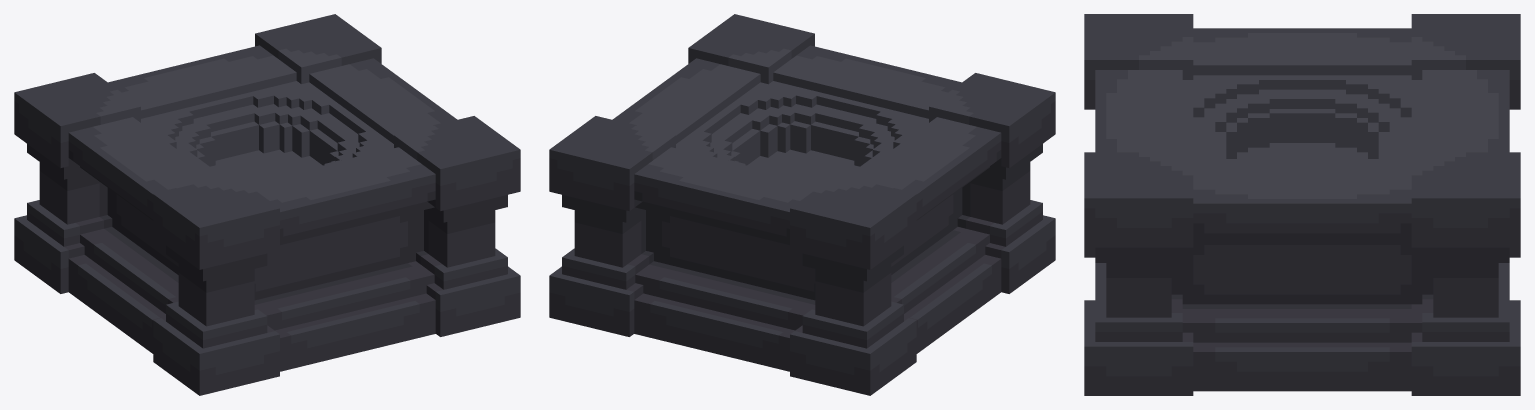
Rendered from RespawnPedestal.obj.
3 renders of one model, left to right at view 1: azimuth 30°, elevation 25°; view 2: azimuth 150°, elevation 25°; view 3: azimuth 270°, elevation 25°, orthographic. The views are drawn at different scales.
Size of the model in its own units: 4 by 2 by 4.
Materials: 1 (1 with a texture image).
